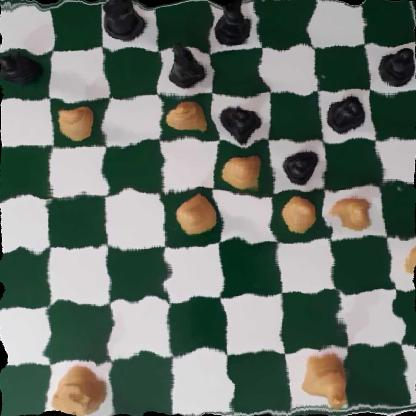black-king: (210, 0, 256, 48)
black-knight: (161, 46, 206, 86)
black-pawn: (324, 94, 368, 133), (219, 100, 266, 136), (279, 145, 320, 186), (372, 47, 416, 84), (0, 51, 42, 88)
black-rook: (101, 0, 150, 42)
white-bishop: (163, 95, 210, 136)
white-king: (297, 348, 356, 410)
white-pawn: (219, 148, 267, 193), (172, 191, 216, 235), (333, 196, 378, 234), (55, 103, 101, 140), (280, 193, 319, 234), (396, 241, 416, 282)
white-rook: (54, 366, 109, 416)
